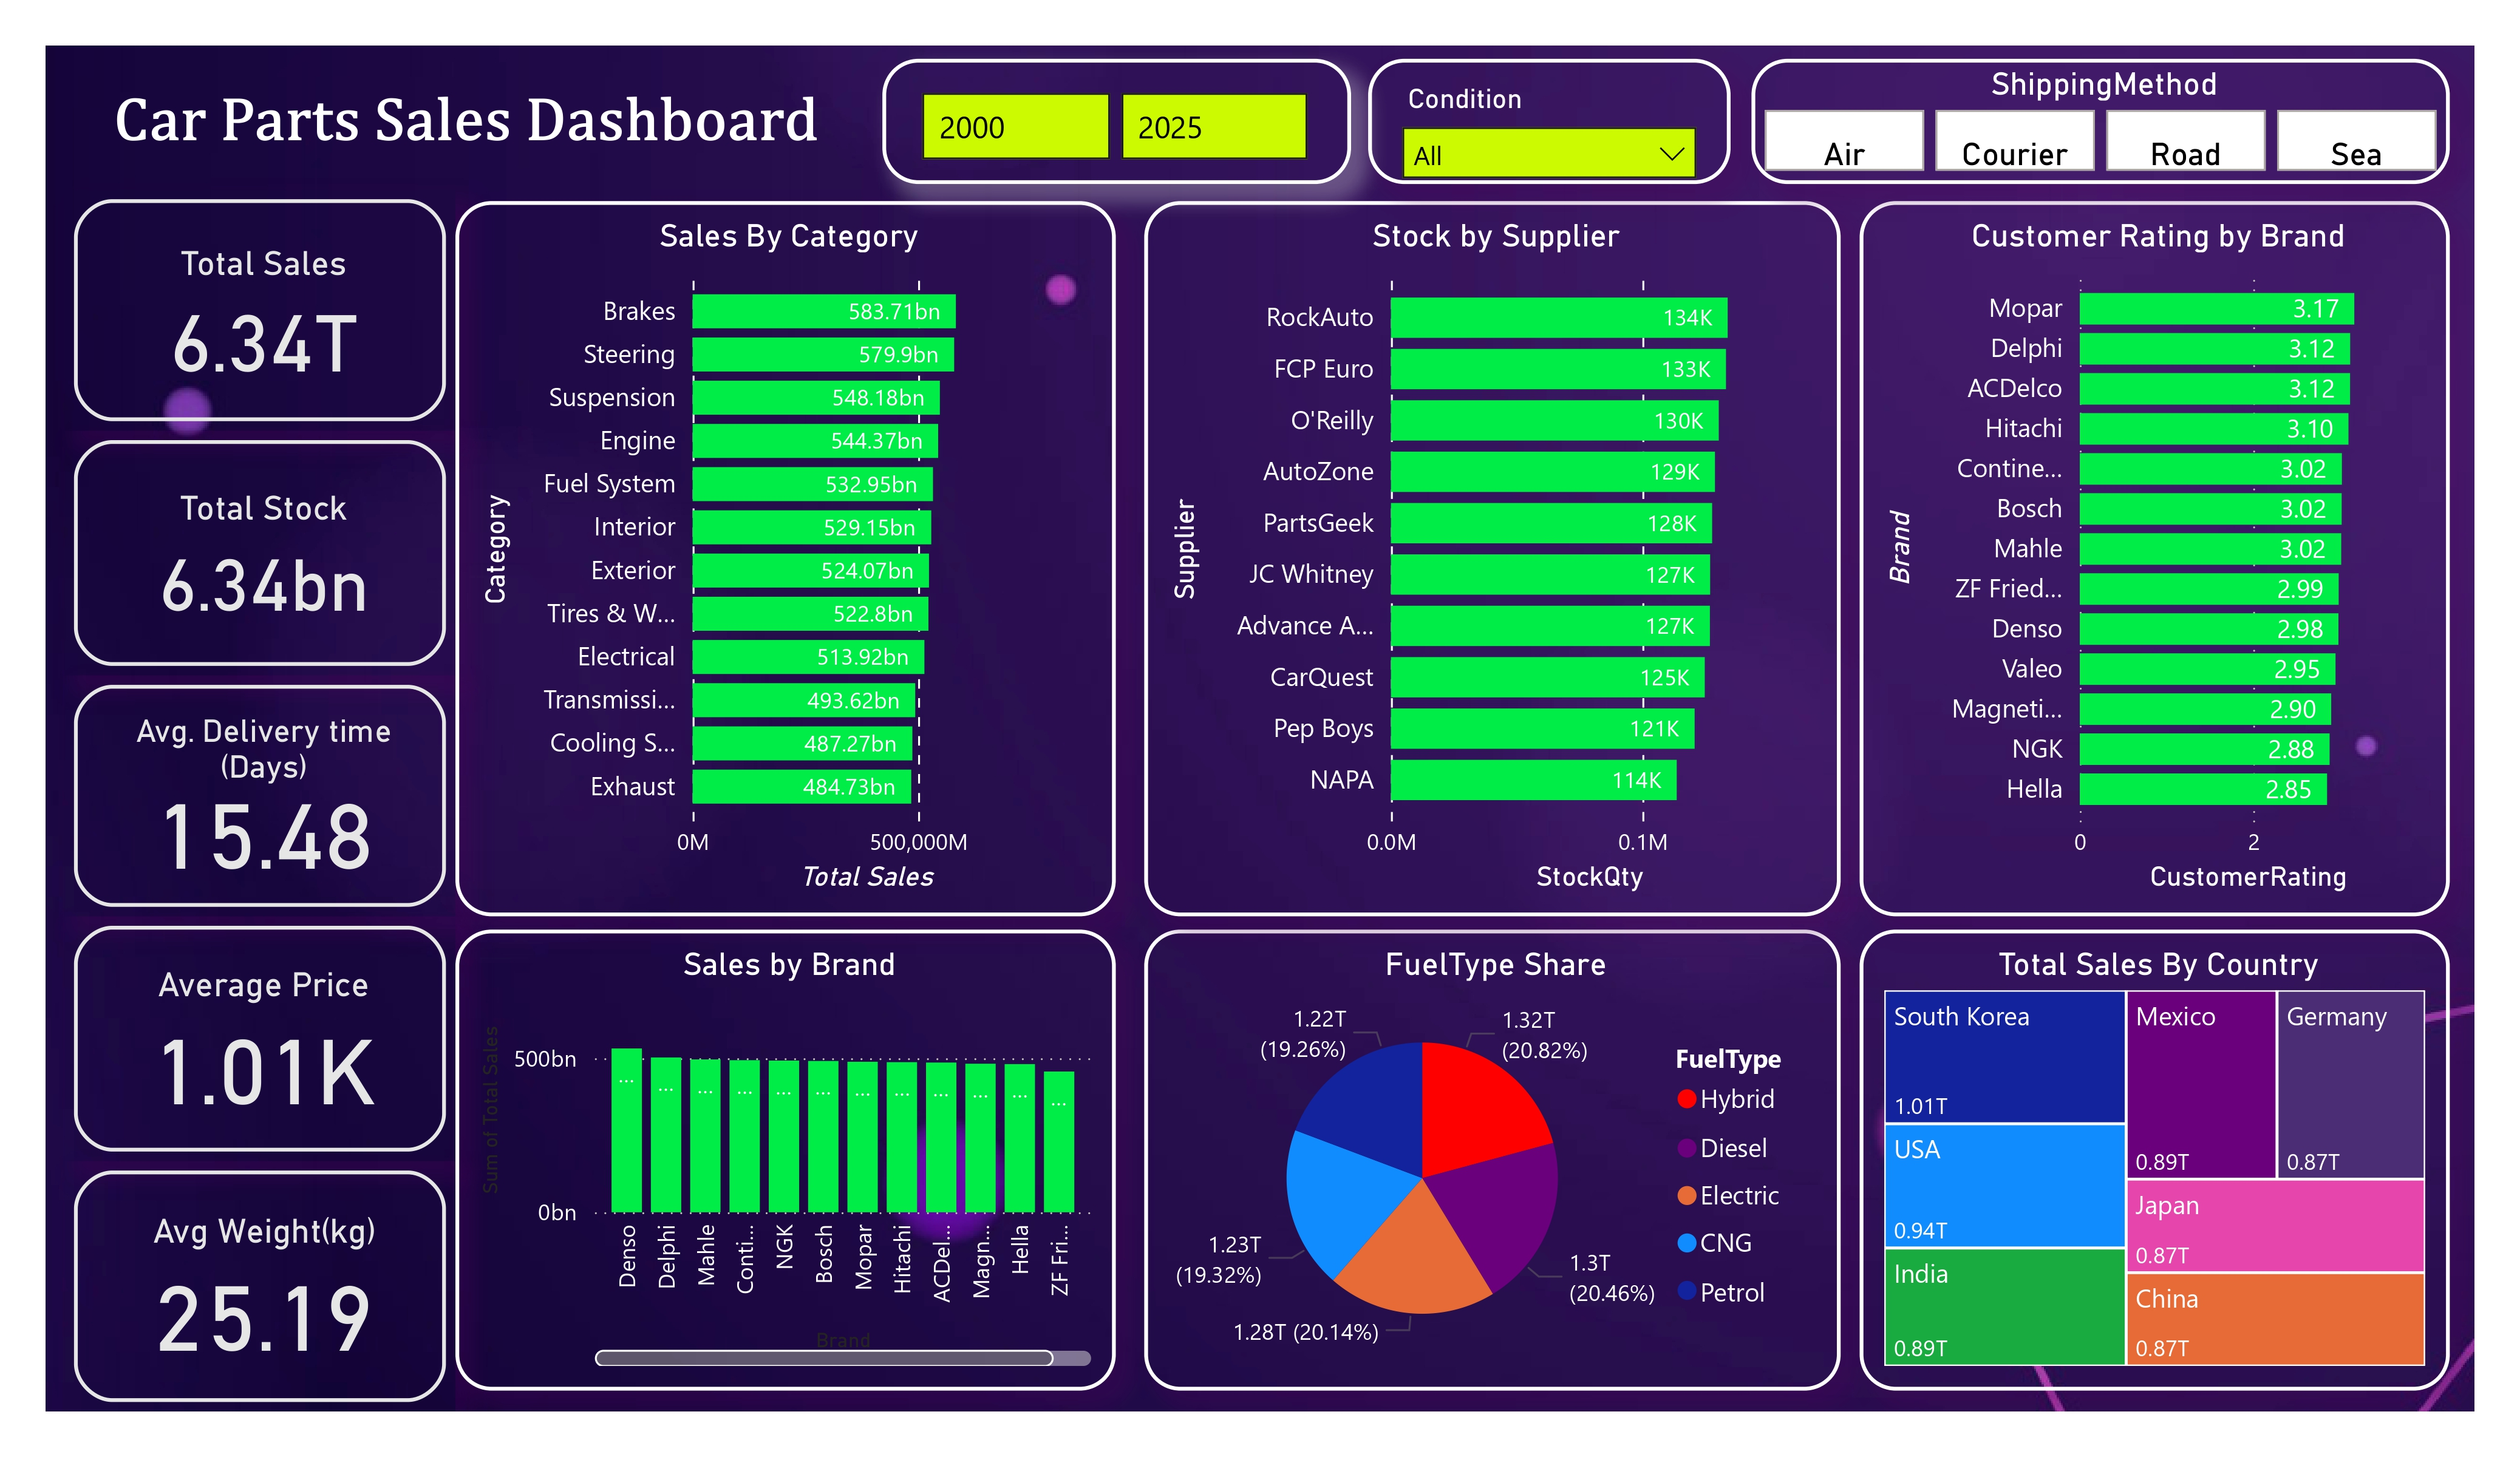

The page's visual inventory and layout, read from the dashboard file:
{"tool":"powerbi","page":{"name":"Page 1","canvas":[1280,720],"ordinal":0},"visuals":[{"type":"textbox","box":[31.1,16.7,458.9,65.6],"z":0},{"type":"cardVisual","fields":{"Data":["Sum(car_parts_dataset.Total Sales)"]},"box":[10,75.6,205.6,127.8],"z":1000},{"type":"cardVisual","fields":{"Data":["Sum(car_parts_dataset.Total Stock)"]},"box":[10,203.3,205.6,128.9],"z":2000},{"type":"cardVisual","fields":{"Data":["Avg(car_parts_dataset.DeliveryTime(Days))"]},"box":[10,332.2,205.6,126.7],"z":3000},{"type":"cardVisual","fields":{"Data":["Avg(car_parts_dataset.Price)"]},"box":[10,458.9,205.6,128.9],"z":4000},{"type":"cardVisual","fields":{"Data":["Avg(car_parts_dataset.Weight(kg))"]},"box":[10,587.8,205.6,132.2],"z":5000},{"type":"clusteredBarChart","title":"Sales By Category","fields":{"Category":["car_parts_dataset.Category"],"Y":["Sum(car_parts_dataset.Total Sales)"]},"box":[215.6,82.2,348.9,376.7],"z":6000},{"type":"columnChart","title":"Sales by Brand","fields":{"Category":["car_parts_dataset.Brand"],"Y":["Sum(car_parts_dataset.Total Sales)"]},"box":[215.6,465.6,348.9,243.3],"z":7000},{"type":"pieChart","title":"FuelType Share","fields":{"Category":["car_parts_dataset.FuelType"],"Y":["Sum(car_parts_dataset.Total Sales)"]},"box":[578.9,465.6,366.7,243.3],"z":8000},{"type":"barChart","title":"Stock by Supplier","fields":{"Y":["Sum(car_parts_dataset.StockQty)"],"Category":["car_parts_dataset.Supplier"]},"box":[578.9,82.2,366.7,376.7],"z":9000},{"type":"barChart","title":"Customer Rating by Brand","fields":{"Category":["car_parts_dataset.Brand"],"Y":["Avg(car_parts_dataset.CustomerRating)"]},"box":[955.6,82.2,311.1,376.7],"z":10000},{"type":"slicer","fields":{"Values":["car_parts_dataset.ManufactureYear"]},"box":[441.1,6.7,246.7,66.7],"z":11000},{"type":"slicer","fields":{"Values":["car_parts_dataset.Condition"]},"box":[696.7,6.7,191.1,66.7],"z":12000},{"type":"advancedSlicerVisual","fields":{"Values":["car_parts_dataset.ShippingMethod"]},"box":[898.9,6.7,367.8,66],"z":13000},{"type":"treemap","title":"Total Sales By Country","fields":{"Group":["car_parts_dataset.CountryOfOrigin"],"Values":["Sum(car_parts_dataset.Total Sales)"]},"box":[956,466,311,243],"z":14000}]}

Visuals, with their boxes in screenshot pixels (x1, y1, x2, y2):
textbox: locate(104, 77, 975, 202)
cardVisual - Sum(car_parts_dataset.Total Sales): locate(64, 189, 455, 432)
cardVisual - Sum(car_parts_dataset.Total Stock): locate(64, 431, 455, 676)
cardVisual - Avg(car_parts_dataset.DeliveryTime(Days)): locate(64, 676, 455, 916)
cardVisual - Avg(car_parts_dataset.Price): locate(64, 916, 455, 1161)
cardVisual - Avg(car_parts_dataset.Weight(kg)): locate(64, 1161, 455, 1411)
"Sales By Category" clusteredBarChart: locate(455, 202, 1117, 916)
"Sales by Brand" columnChart: locate(455, 929, 1117, 1390)
"FuelType Share" pieChart: locate(1144, 929, 1840, 1390)
"Stock by Supplier" barChart: locate(1144, 202, 1840, 916)
"Customer Rating by Brand" barChart: locate(1859, 202, 2449, 916)
slicer - car_parts_dataset.ManufactureYear: locate(882, 58, 1350, 185)
slicer - car_parts_dataset.Condition: locate(1367, 58, 1730, 185)
advancedSlicerVisual - car_parts_dataset.ShippingMethod: locate(1751, 58, 2449, 183)
"Total Sales By Country" treemap: locate(1859, 929, 2450, 1391)
